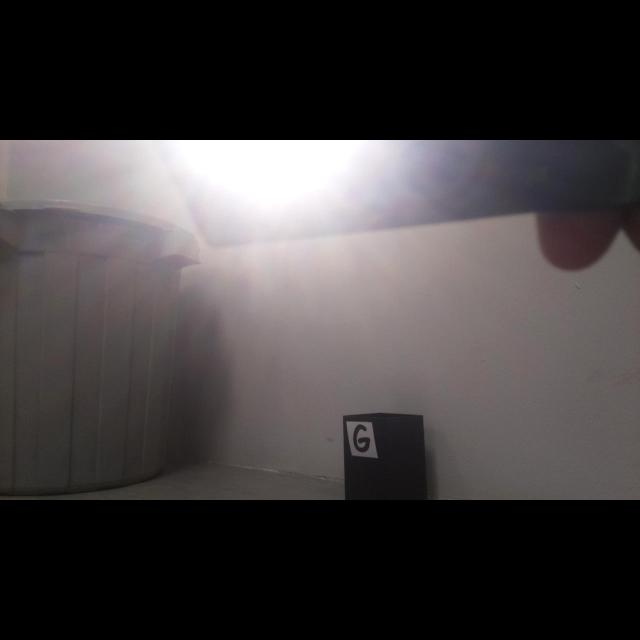G: (353, 424, 370, 452)
